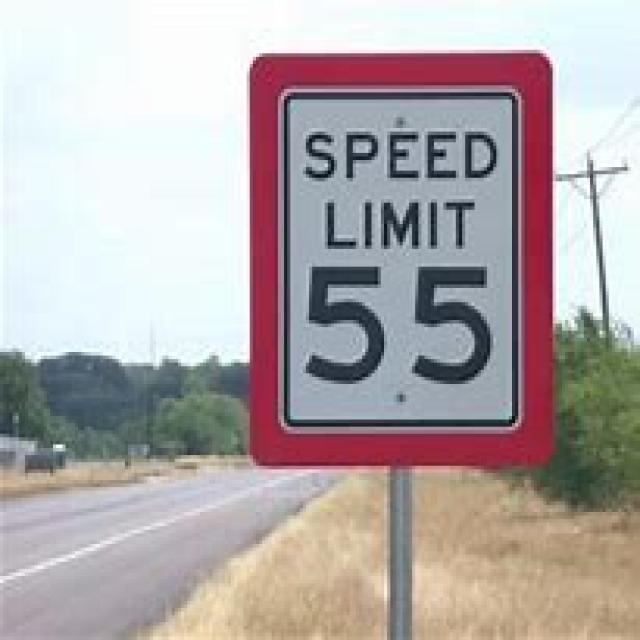speedLimit55: (276, 86, 523, 430)
